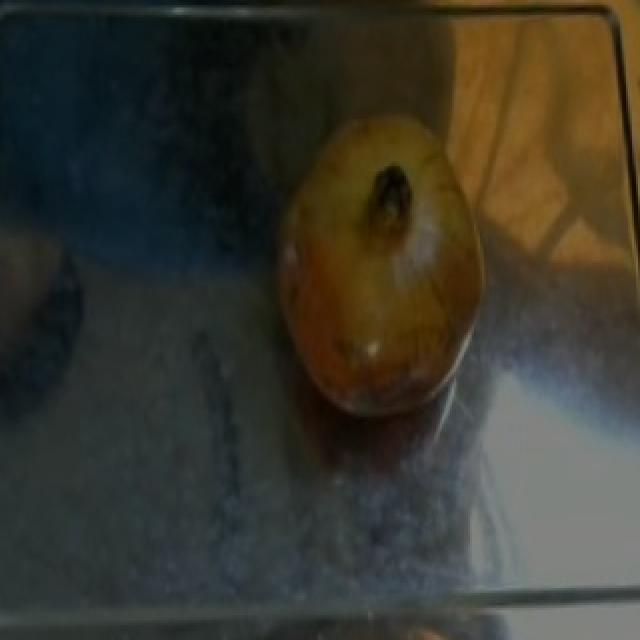fruit: (258, 161, 480, 439)
